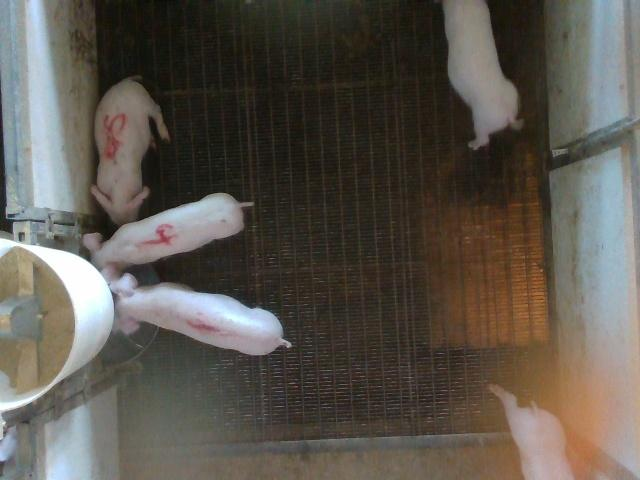pig-1: (110, 274, 291, 355)
pig-4: (84, 194, 252, 282)
pig-5: (91, 76, 170, 226)
